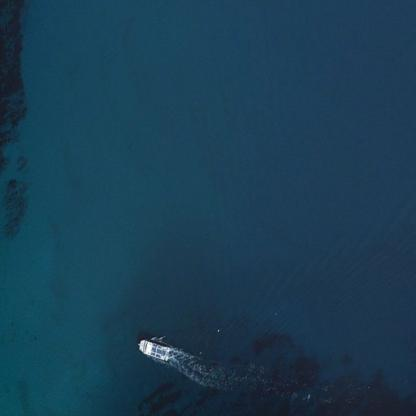ship: (134, 331, 176, 367)
